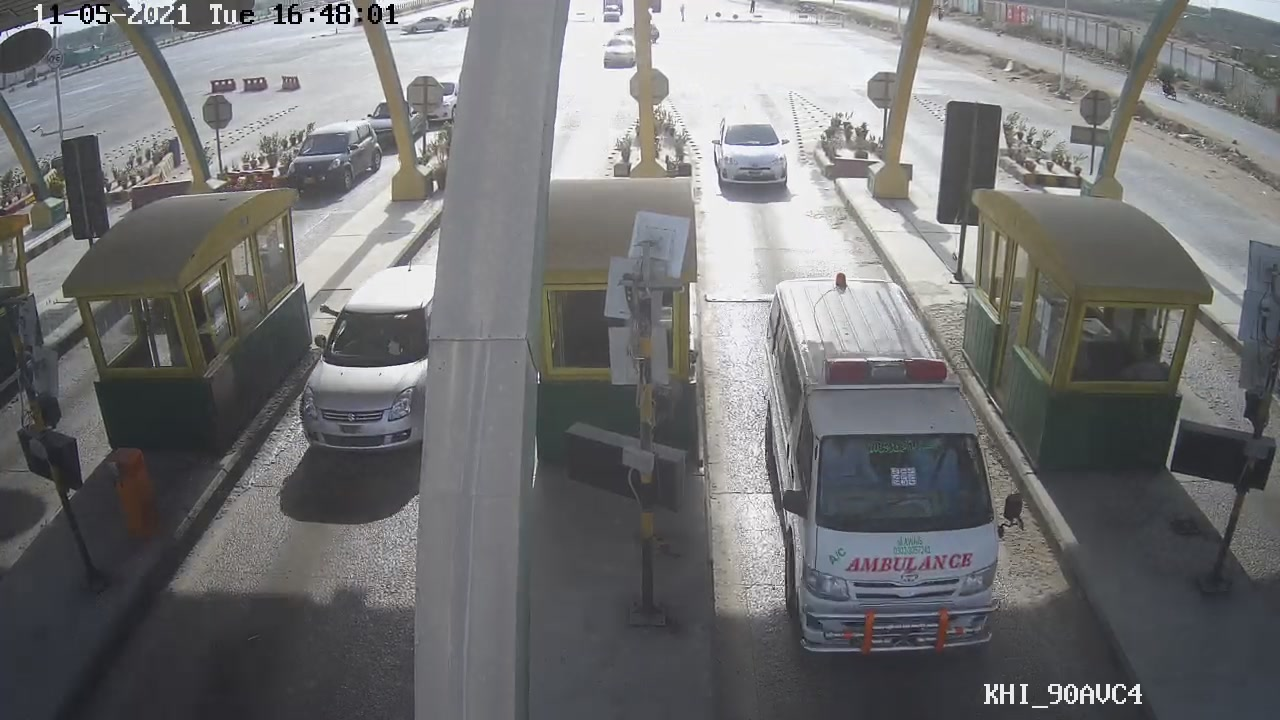F2: (761, 271, 1033, 657)
